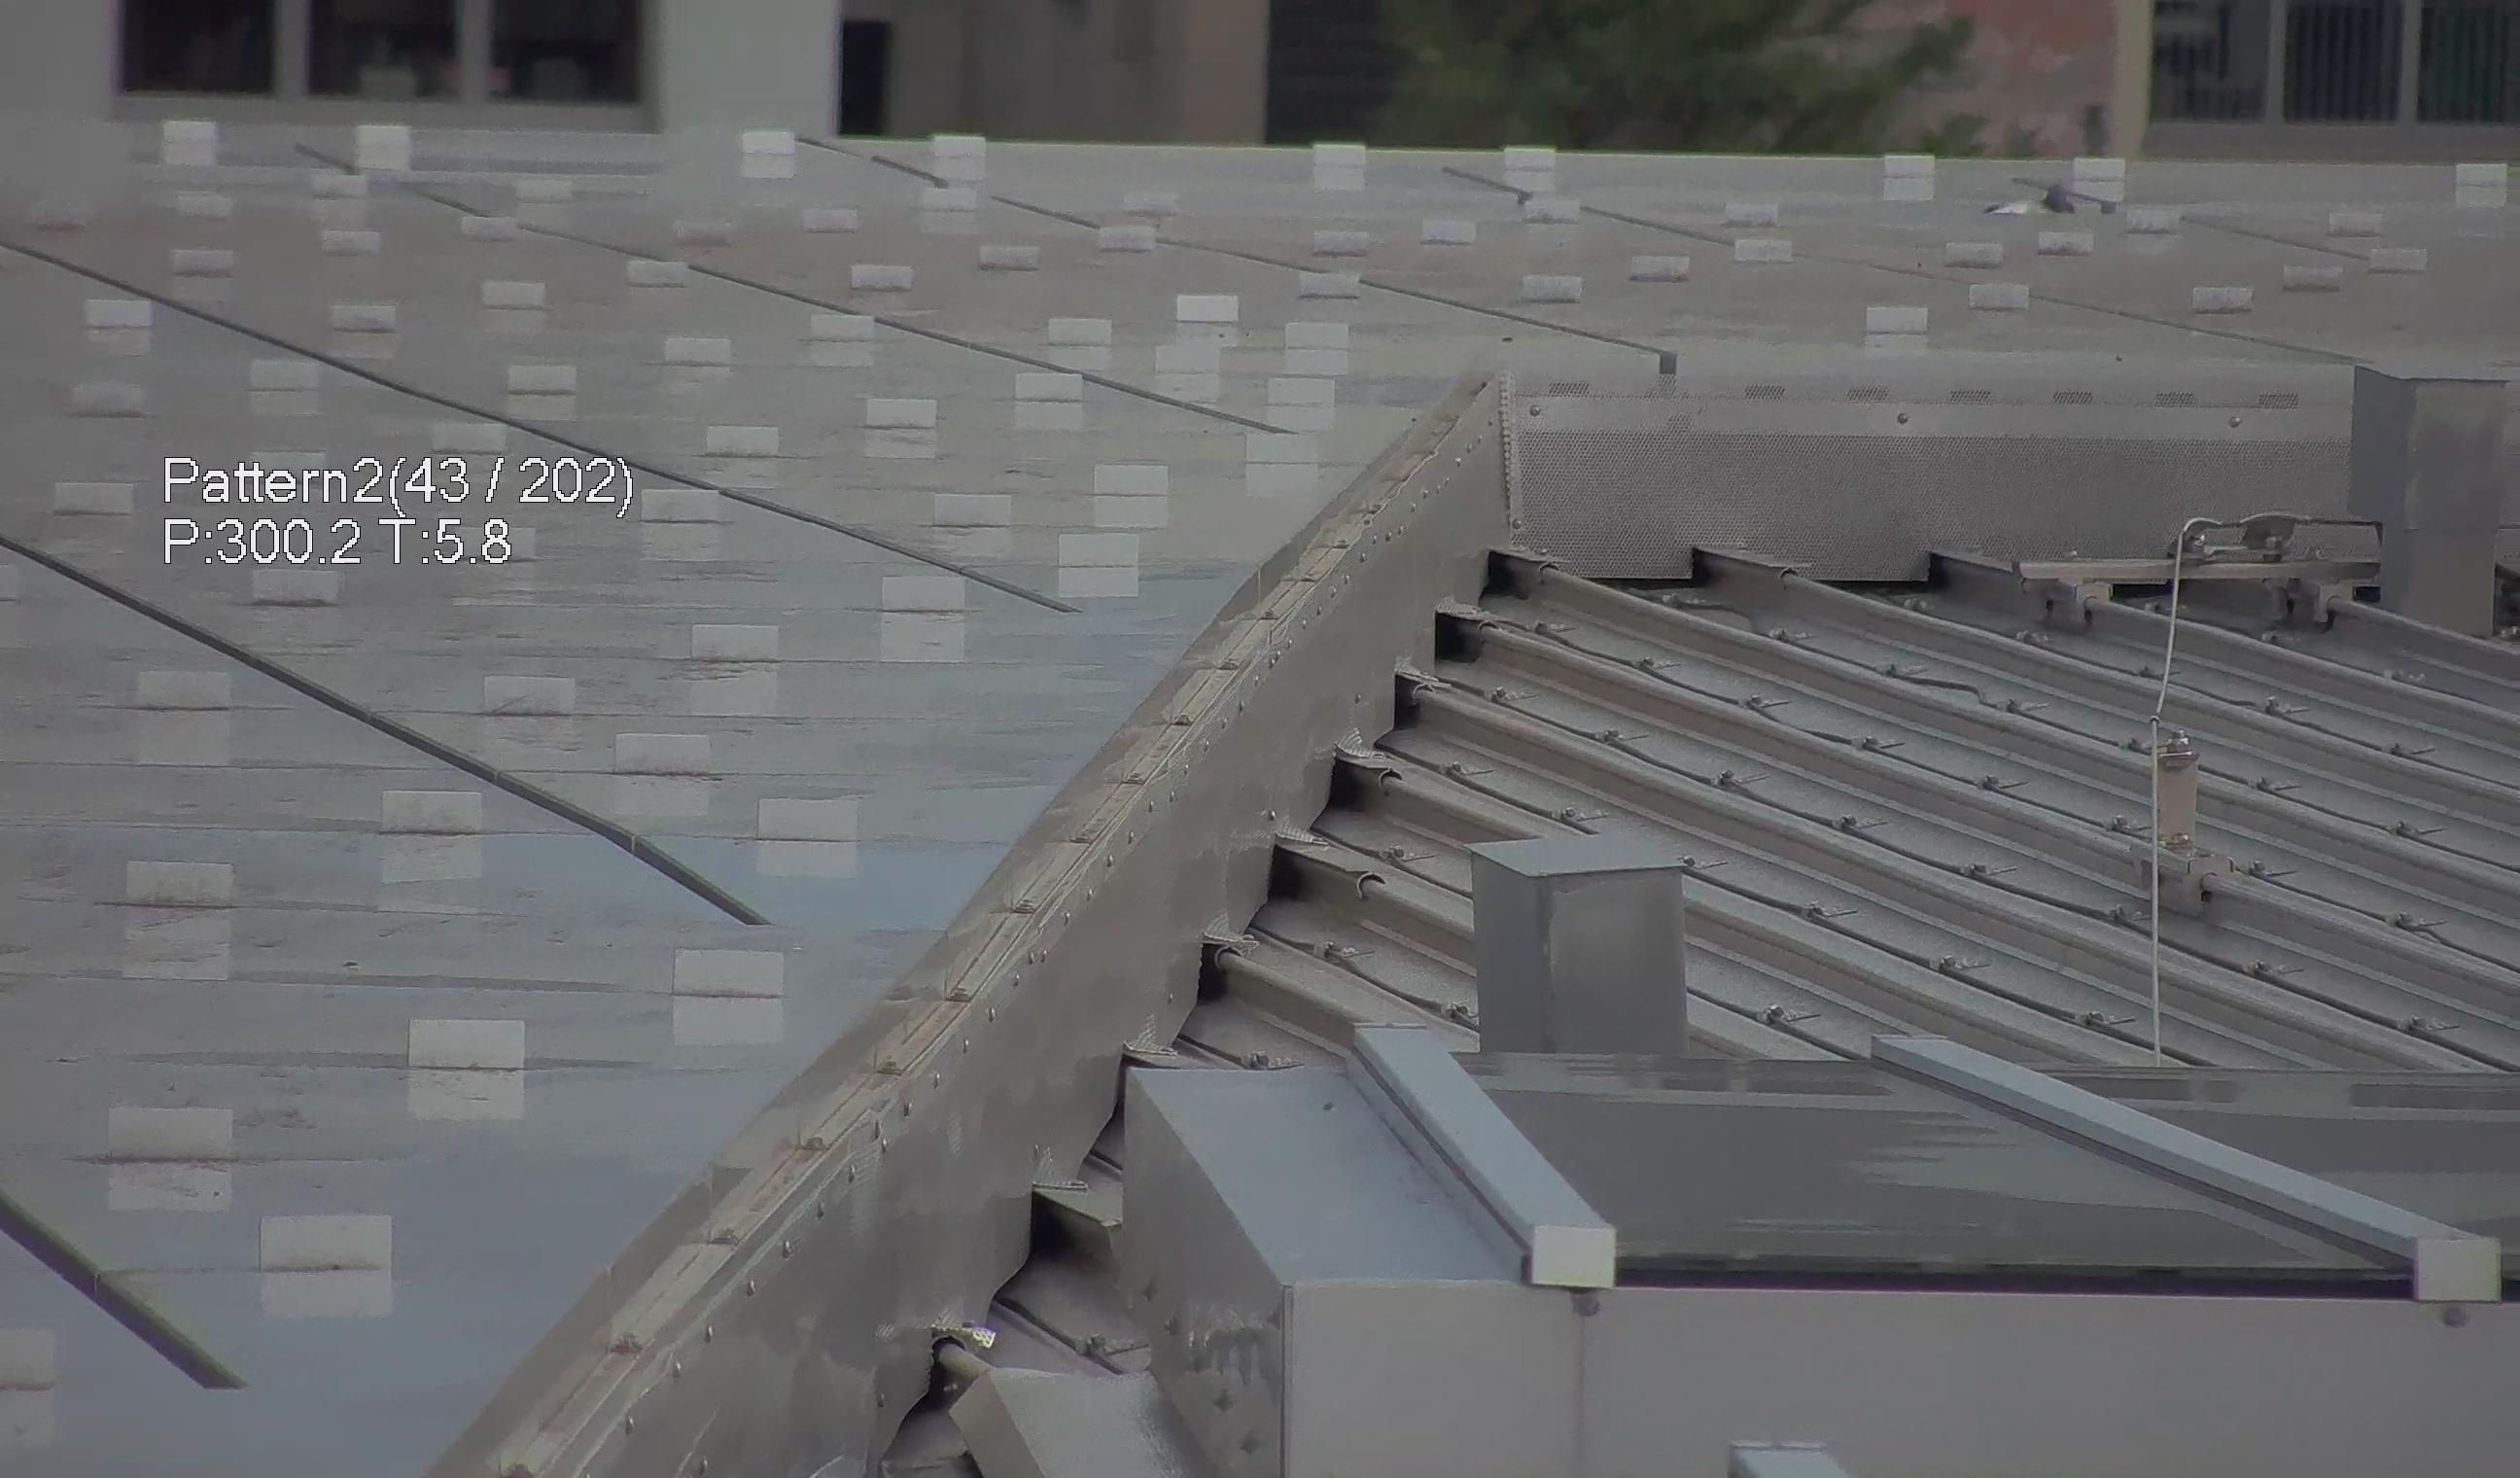Other: (872, 1307, 1008, 1478)
